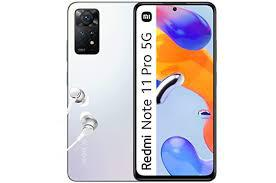Smartphone: (134, 0, 215, 179), (69, 4, 142, 181)
